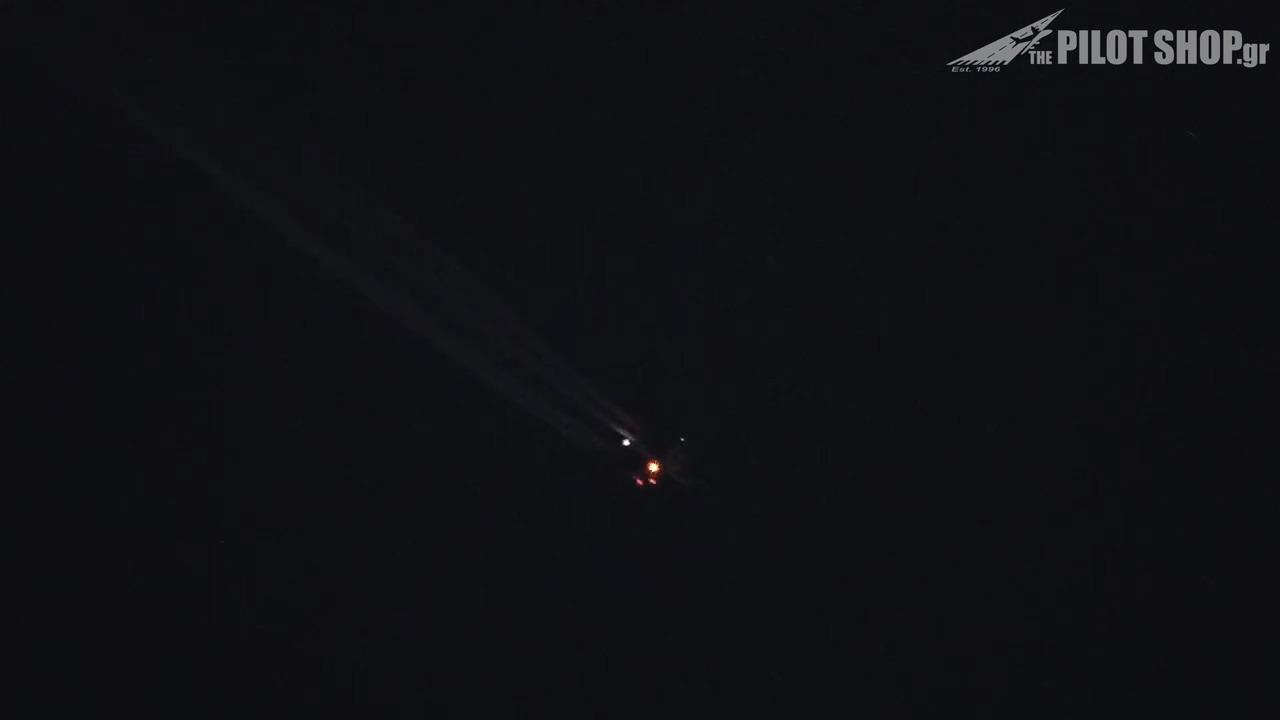Plane: (503, 384, 791, 524)
